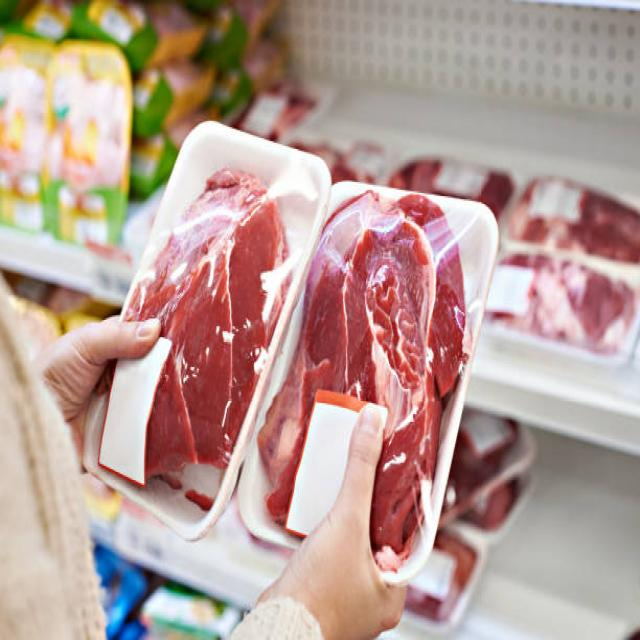article: (238, 182, 497, 582), (85, 121, 330, 538)
hands: (254, 406, 405, 638), (35, 317, 159, 456)
